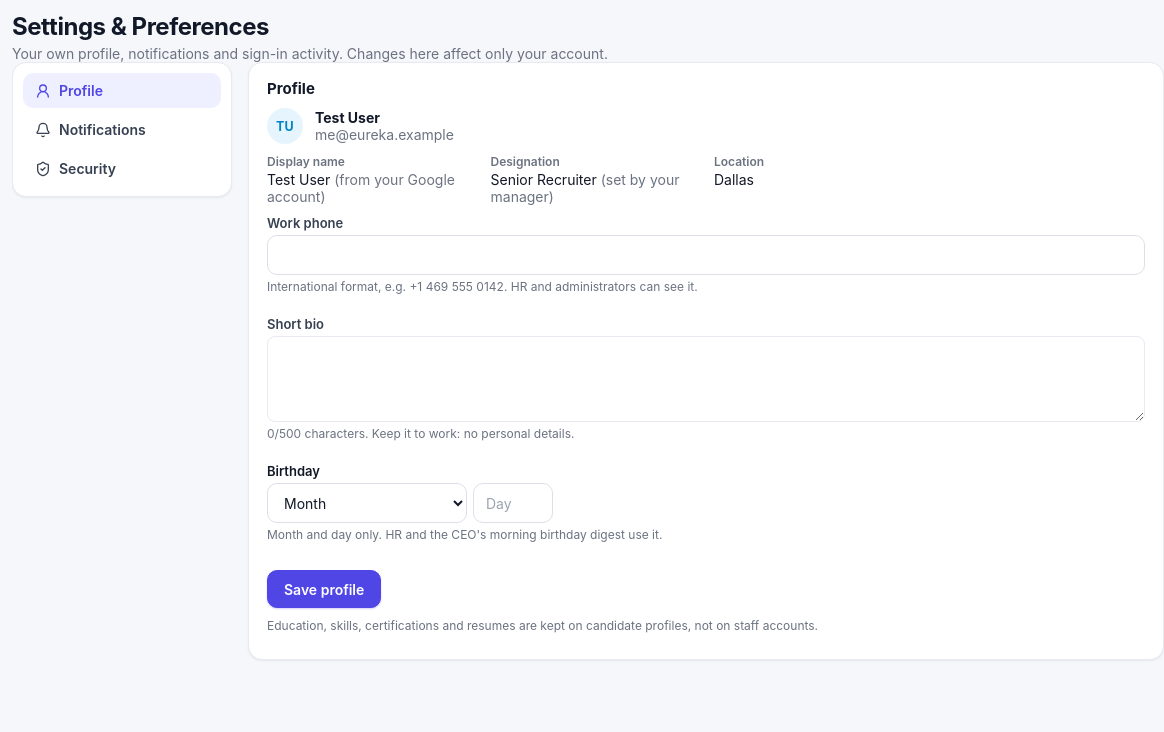
Test case: Settings & Preferences › shows name and designation read-only and saves phone and bio with If-Match
Expected: the text "(from your Google account)" is shown, 267,171 -> 455,205
Expected: the text "Senior Recruiter" is shown, 490,171 -> 597,188
In the field labelled "Work phone": (706, 255) 267,235 -> 1145,275, type "+1 469 555 0142"
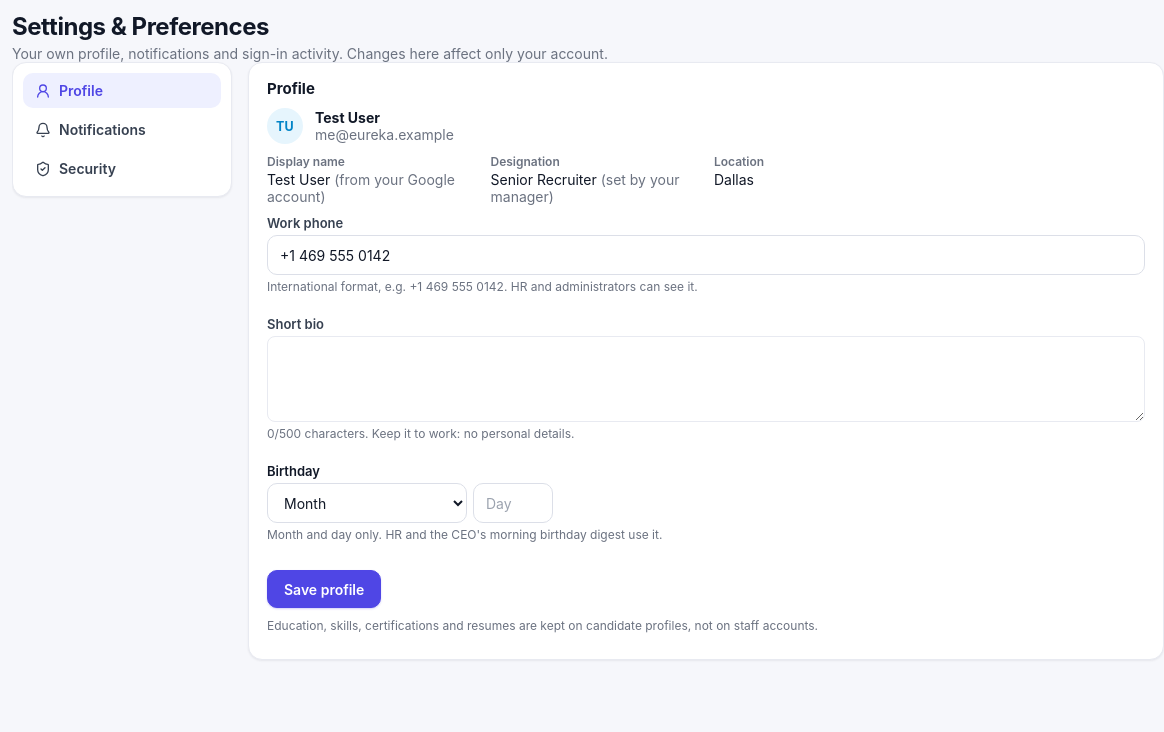
In the text box labelled "Short bio": (706, 379) 267,336 -> 1145,422, type "Java and cloud hiring."
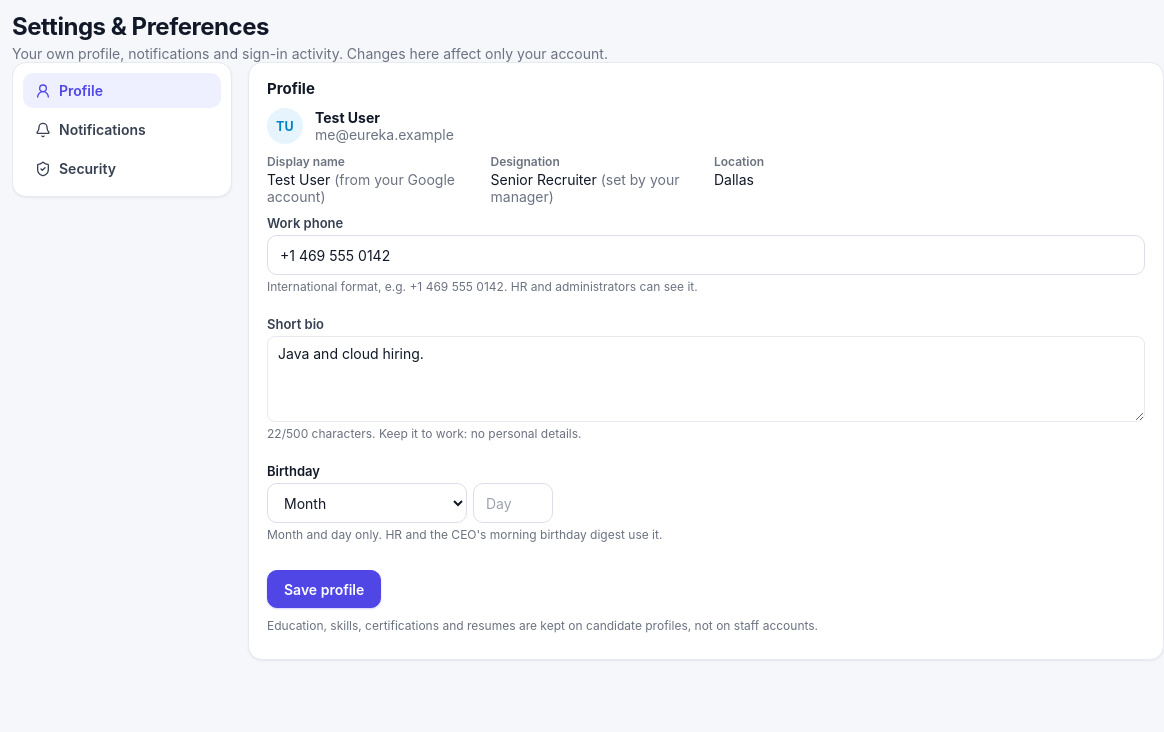
Click the button "Save profile": (324, 589) 267,570 -> 381,608
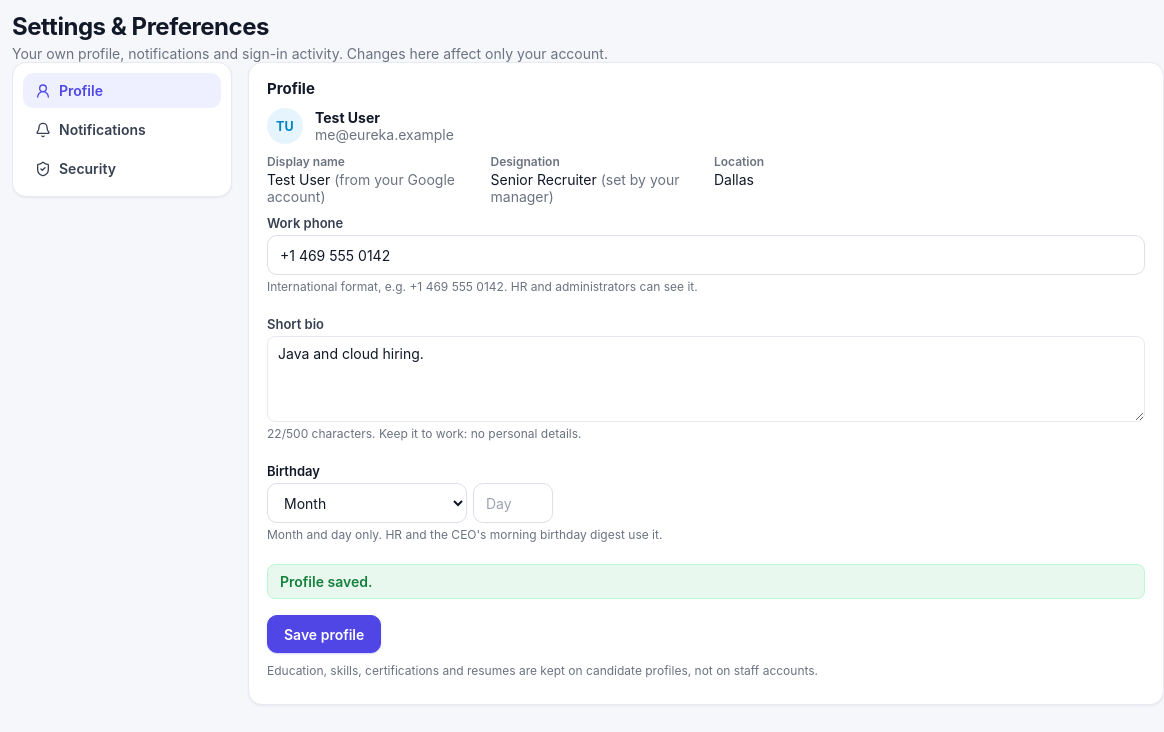
Expected: the text "Education, skills, certifications and resumes are kept on candidate profiles" is shown, 267,663 -> 818,678
Result: the text "Profile saved." is shown at 267,564 -> 1145,599
